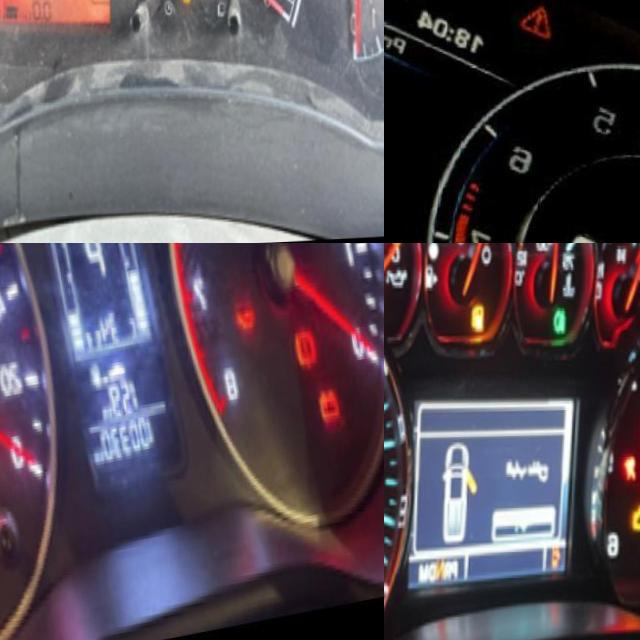Low beam: (550, 310, 571, 342)
Low fuel level: (469, 301, 487, 338)
